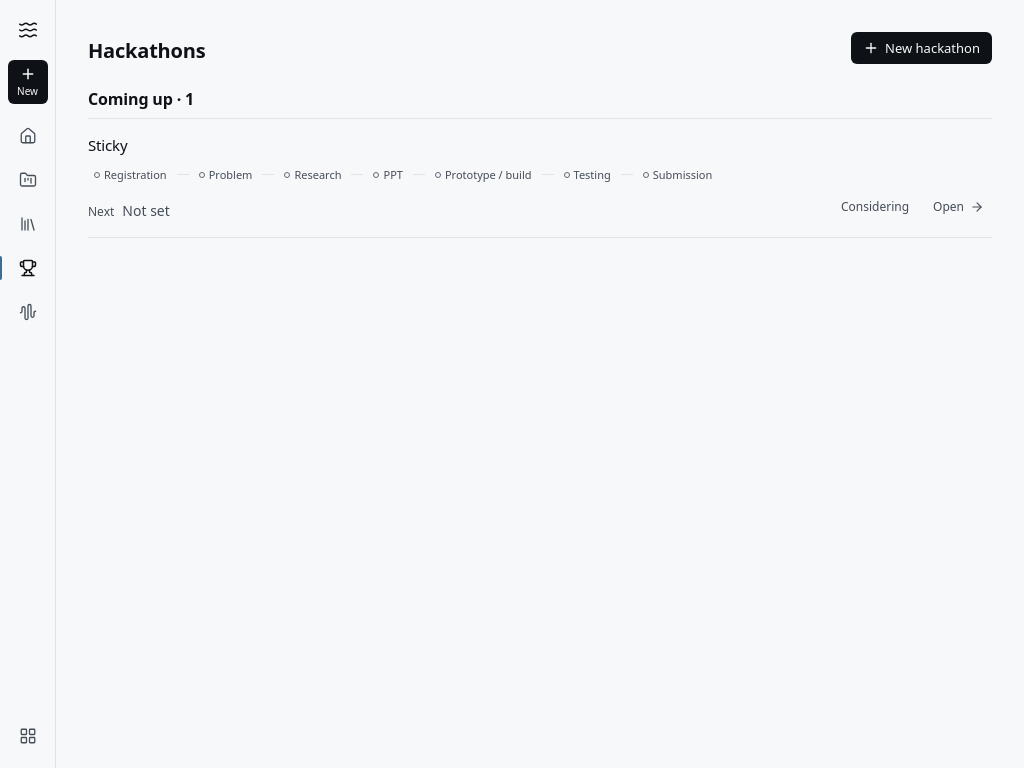
Test: Hackathons page (v2 PHASE 016) › surfaces a failed status change calmly
Check: the heading "Hackathons" is shown, box [88, 38, 205, 64]
Click the button "Open" at (959,207), box [925, 193, 992, 221]
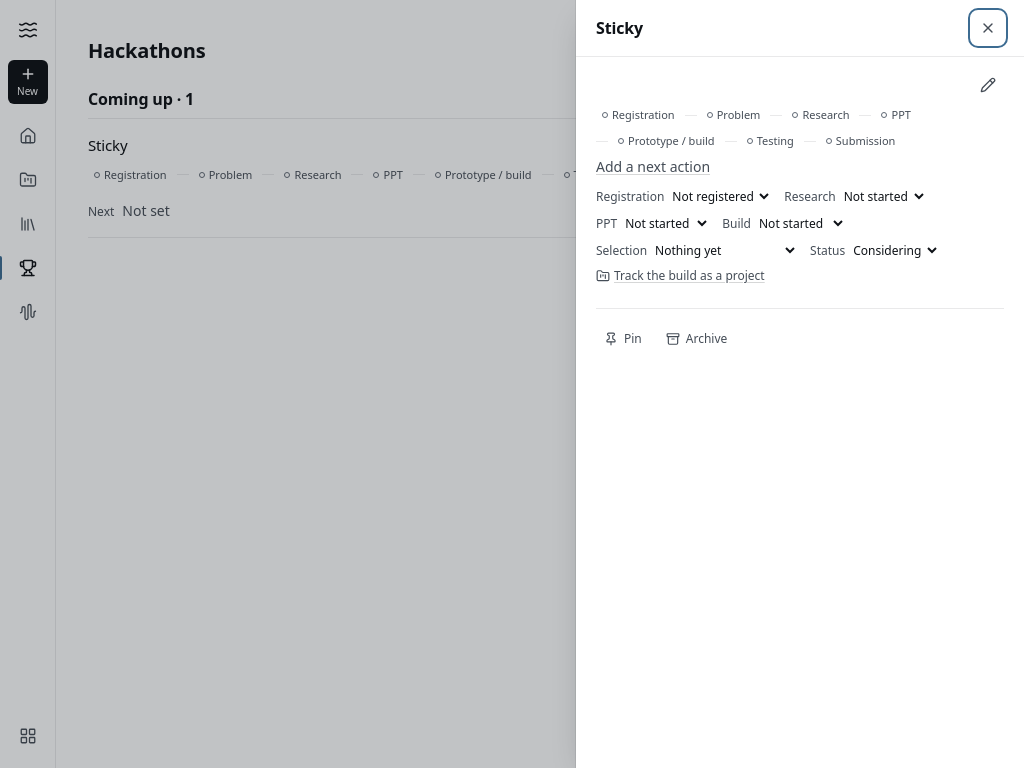
Select "Submitted" in the dropdown named "Build for Sticky" at (800,224), box [755, 212, 846, 235]
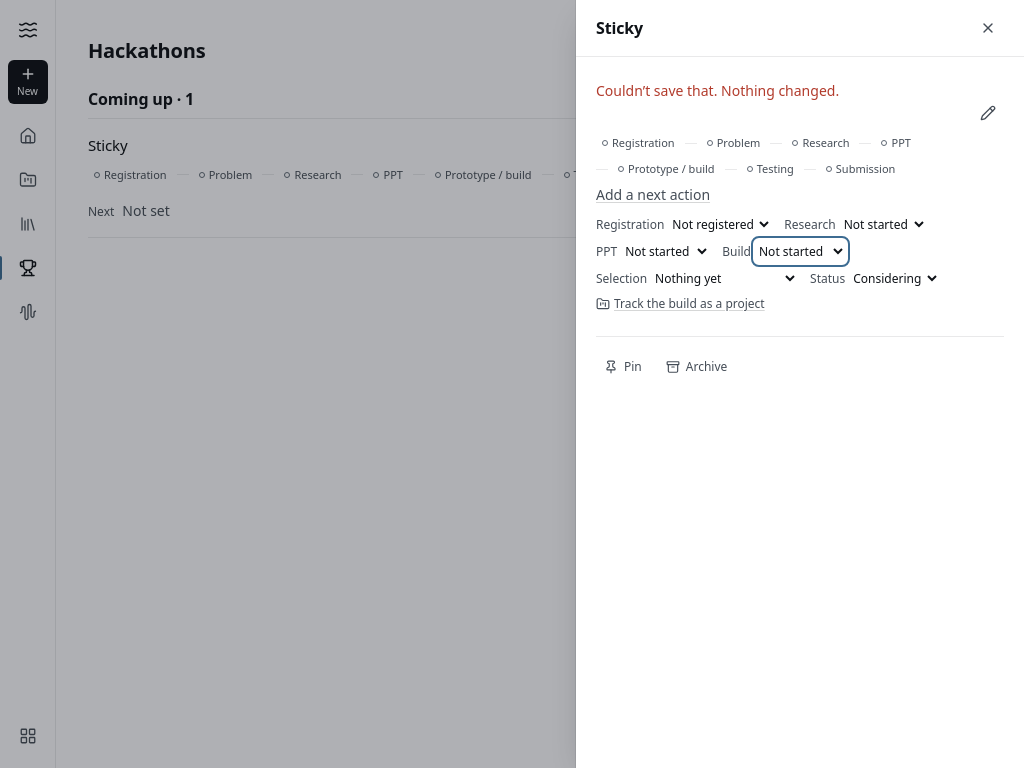
Check: the message shows "Couldn’t save that", box [596, 81, 839, 100]
